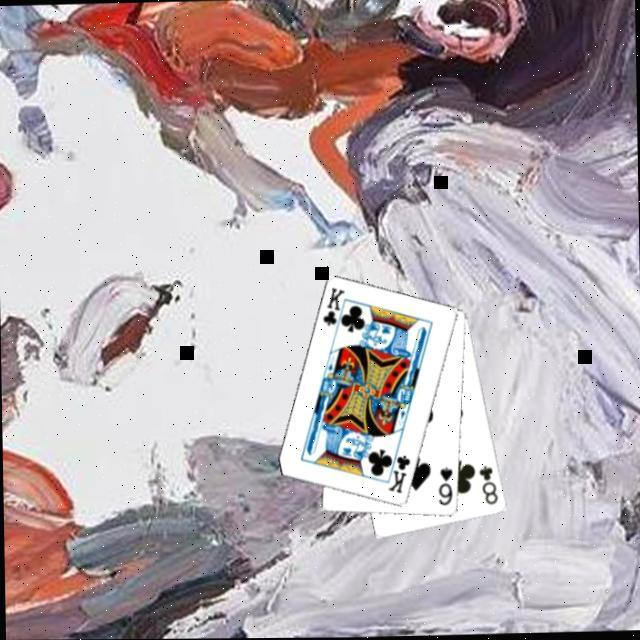6S: (434, 463, 456, 508)
8C: (474, 462, 500, 507)
KC: (318, 284, 350, 335), (381, 444, 412, 496)
